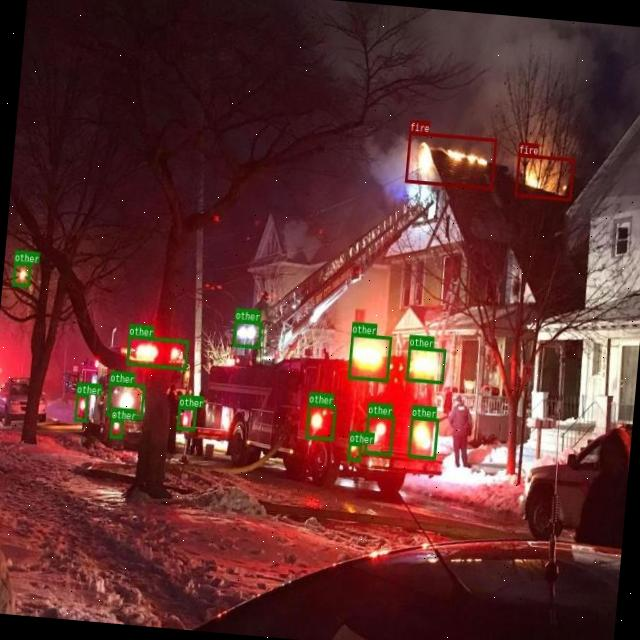fire: (404, 130, 496, 189), (514, 152, 574, 200)
